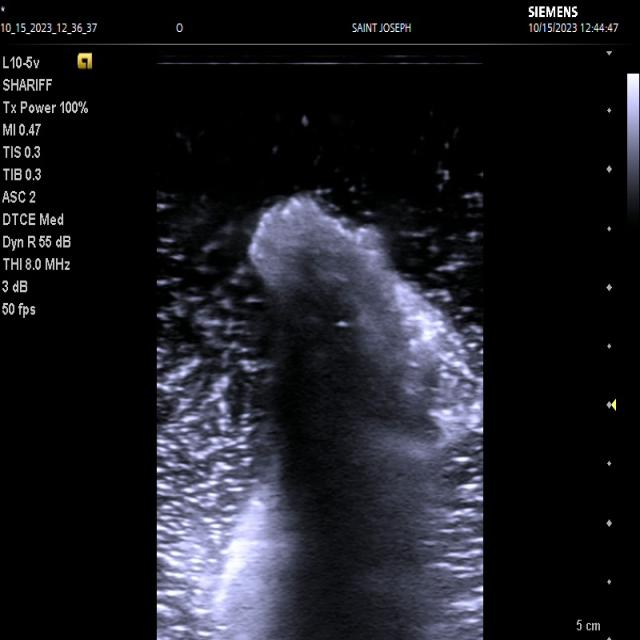tissue: (210, 192, 479, 640)
